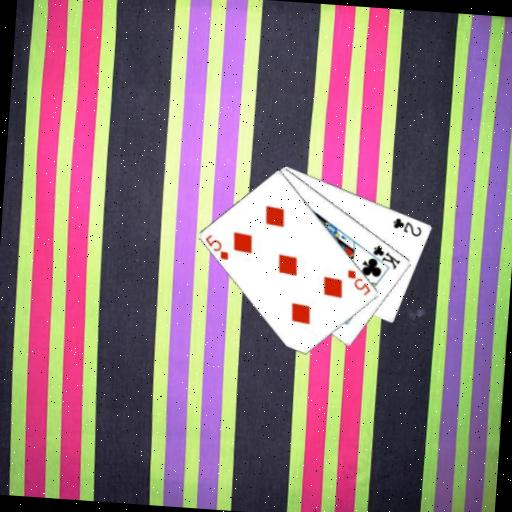2C: (390, 215, 425, 239)
5D: (343, 266, 374, 298), (201, 231, 232, 262)
KC: (363, 241, 403, 271)
